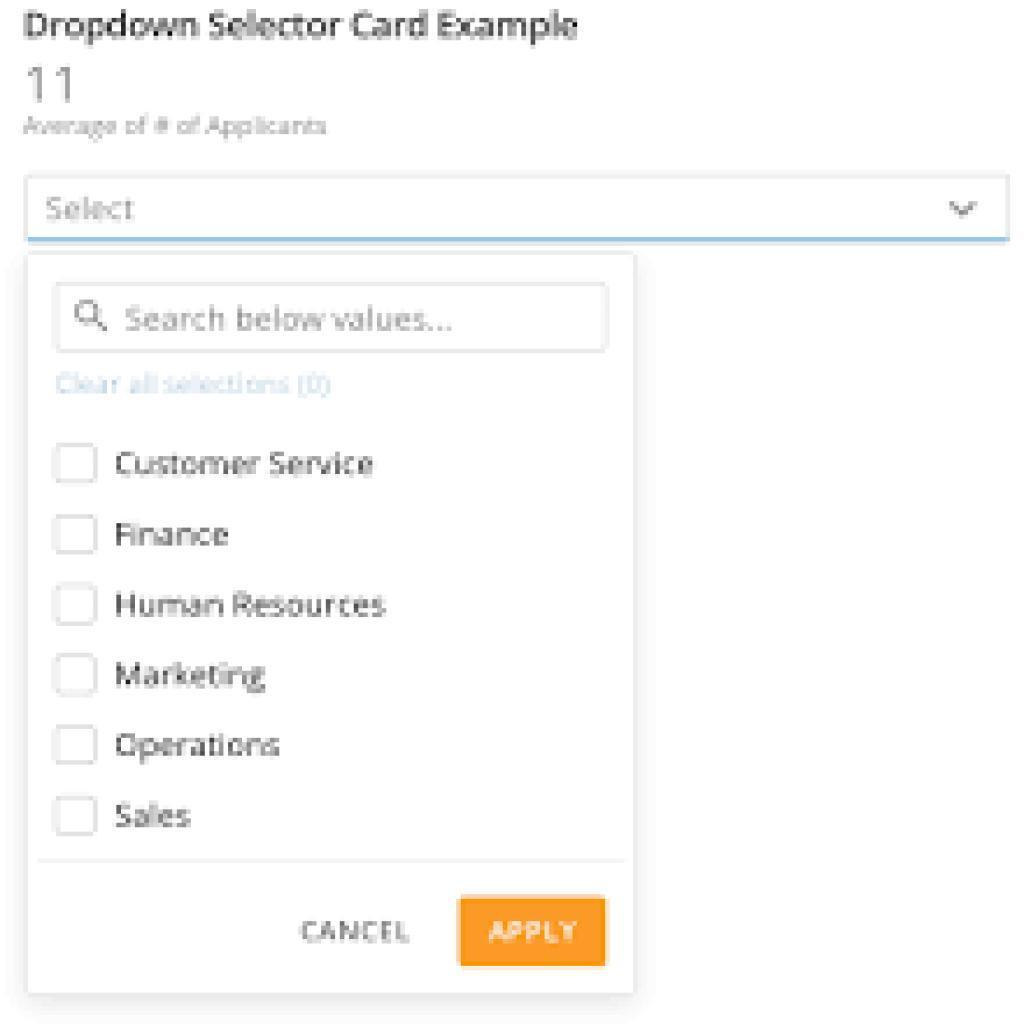checkbox: (55, 584, 100, 630), (53, 657, 100, 700), (53, 795, 99, 837), (54, 445, 97, 487), (56, 514, 99, 554), (55, 725, 95, 764)
dropdown: (24, 177, 1007, 241)
input: (56, 281, 608, 355), (456, 895, 605, 963)
label: (115, 584, 395, 632), (117, 437, 380, 488), (115, 726, 291, 771), (114, 651, 273, 696), (304, 914, 415, 958), (109, 515, 234, 552), (110, 799, 197, 834)
